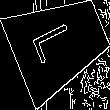L_NE: (33, 19, 86, 68)
